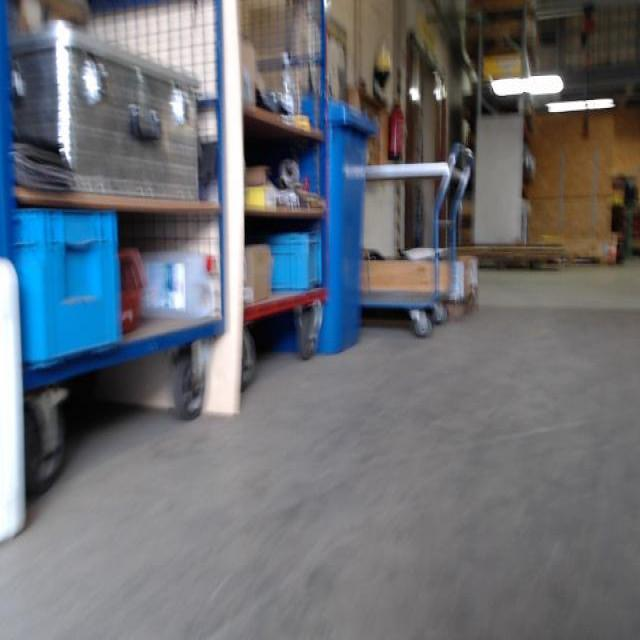small_load_carrier: (8, 195, 124, 372), (252, 211, 327, 295)
